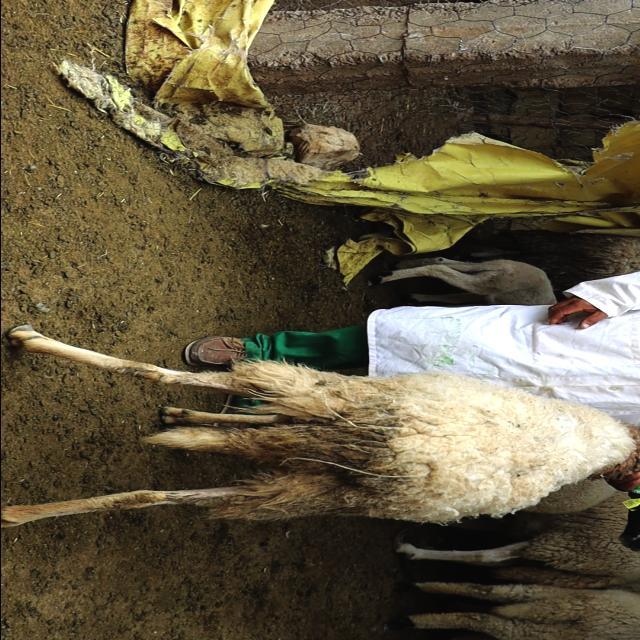Score_2: (1, 325, 640, 527)
